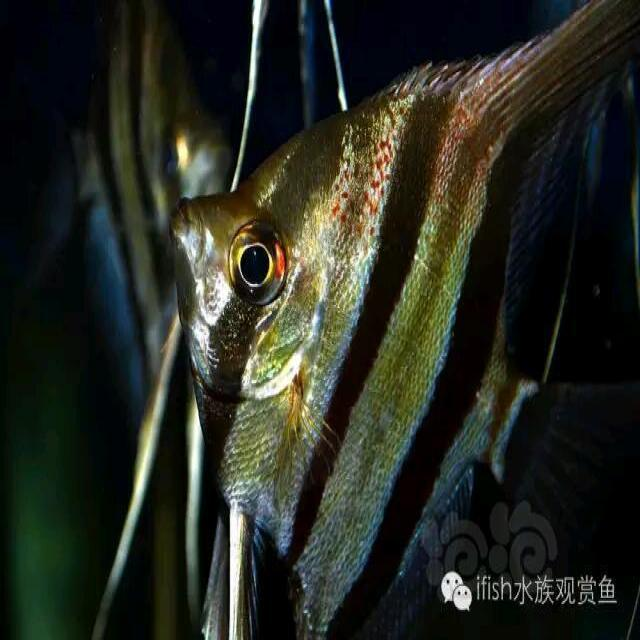AngelFish: (175, 4, 636, 604), (63, 4, 226, 414)
